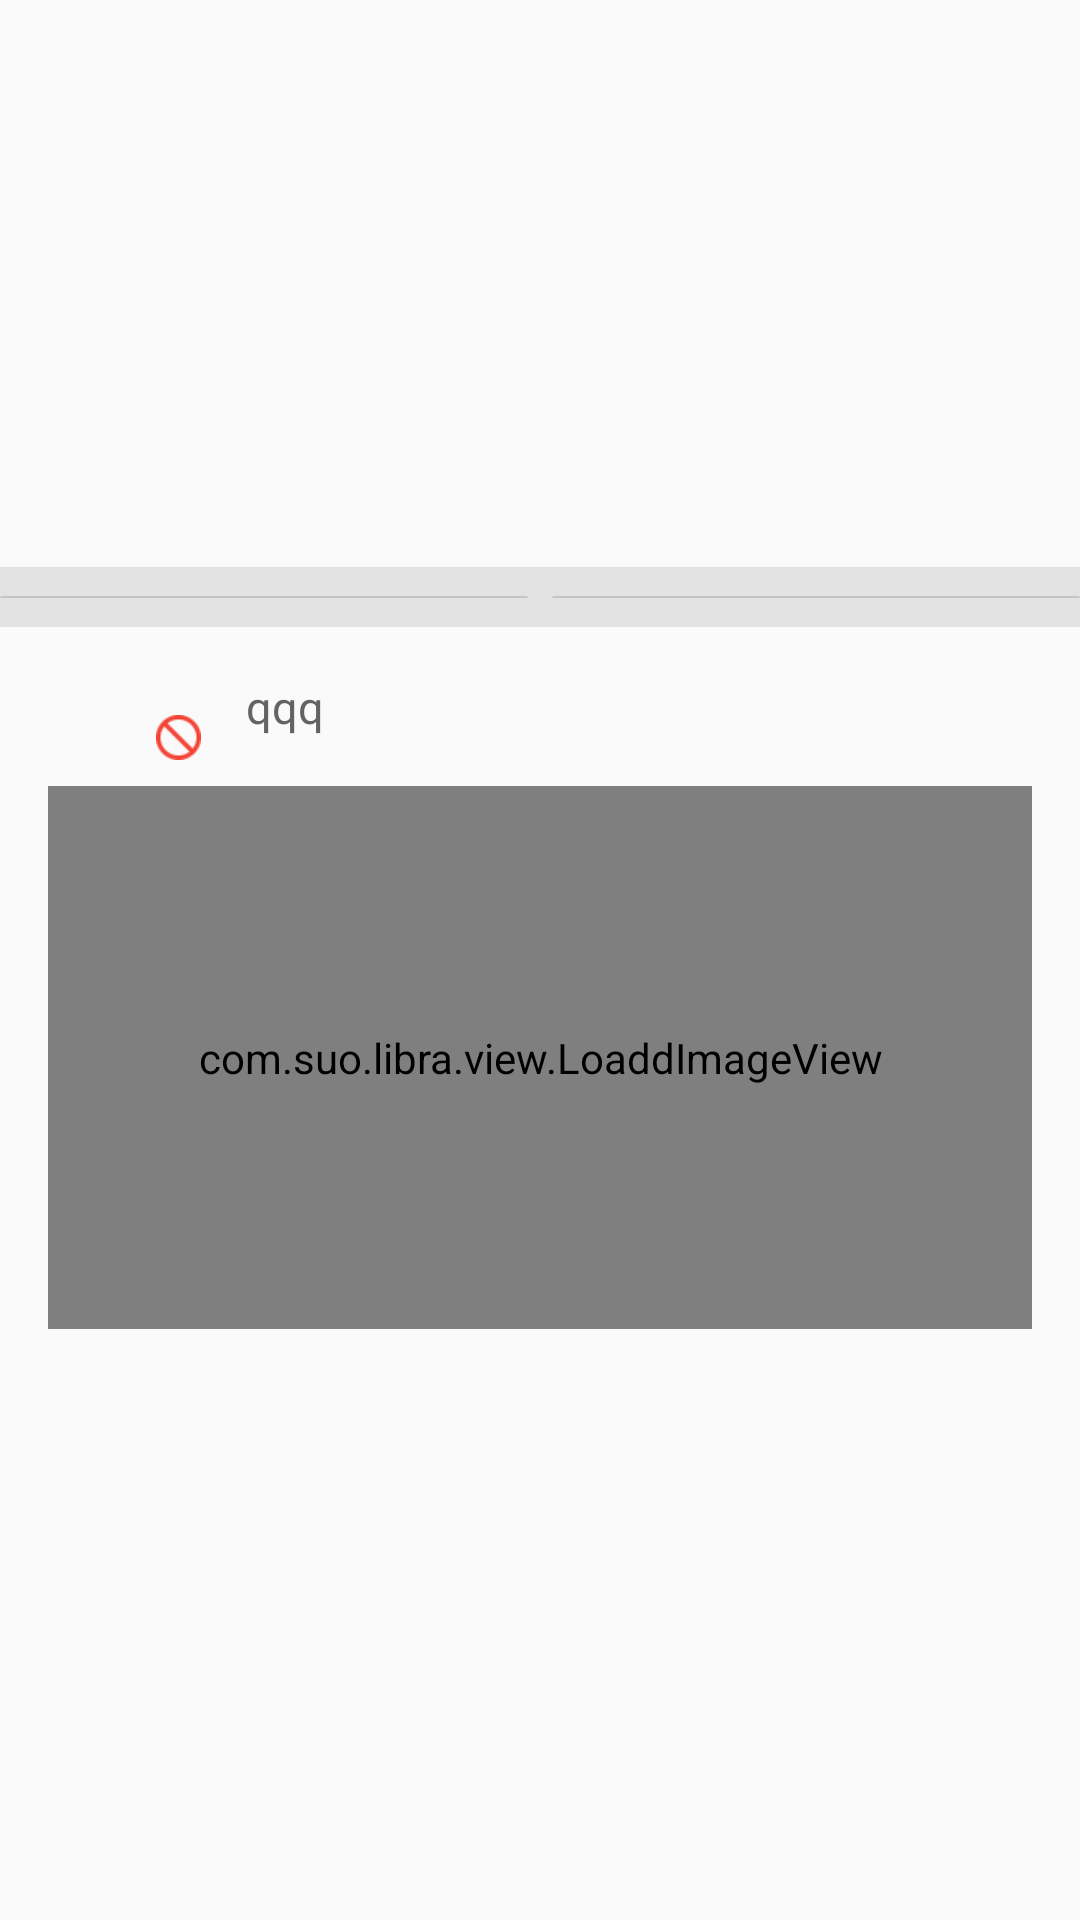

Point at icon controls on the screen. Image size 1080*1920, points as point (x, y).
suo intr blo: point (178, 737)
